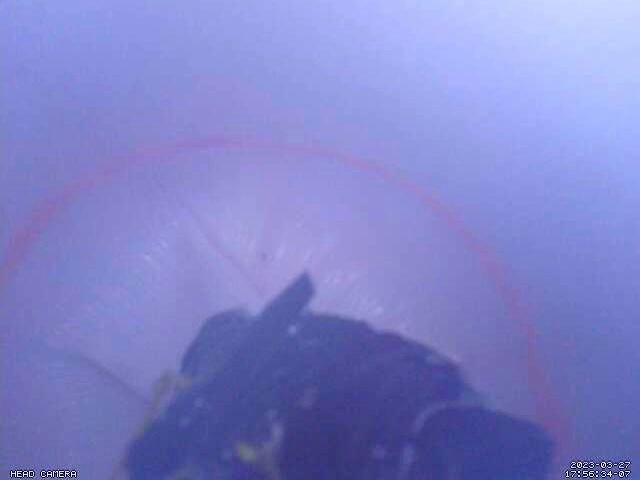head: (0, 132, 575, 480)
